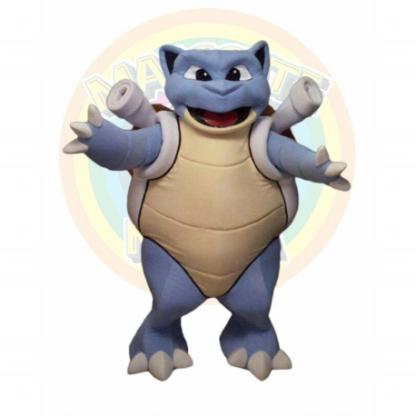Blastoise: (59, 31, 383, 372)
